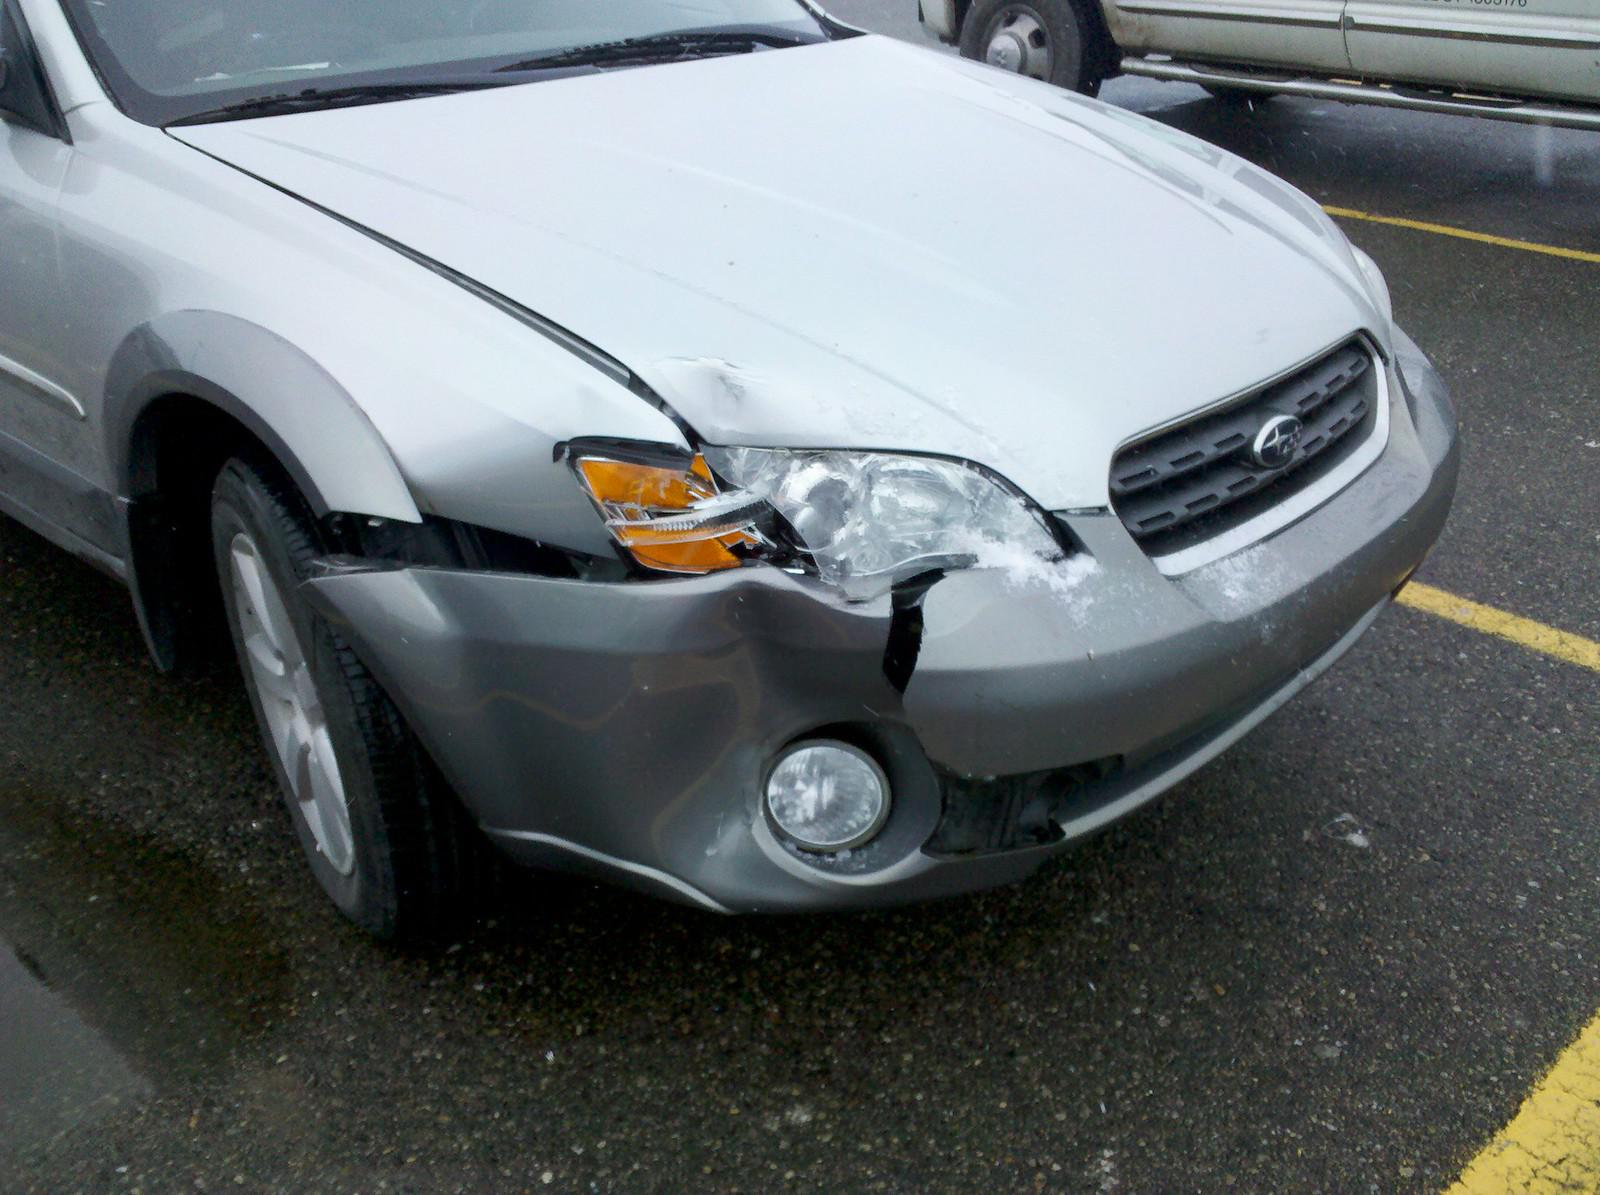Headlight-Damage: (535, 353, 1094, 630)
front-bumper-dent: (458, 557, 1083, 908)
